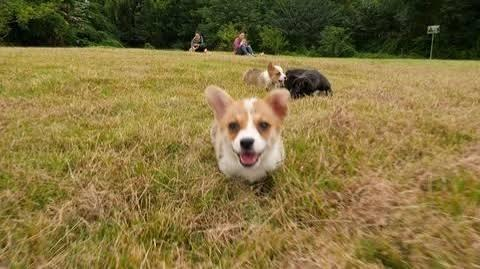adult_dog: (281, 68, 338, 101), (242, 60, 288, 92)
non-dog: (232, 30, 260, 57), (188, 29, 210, 54)
puppy-dog: (202, 85, 291, 184)
